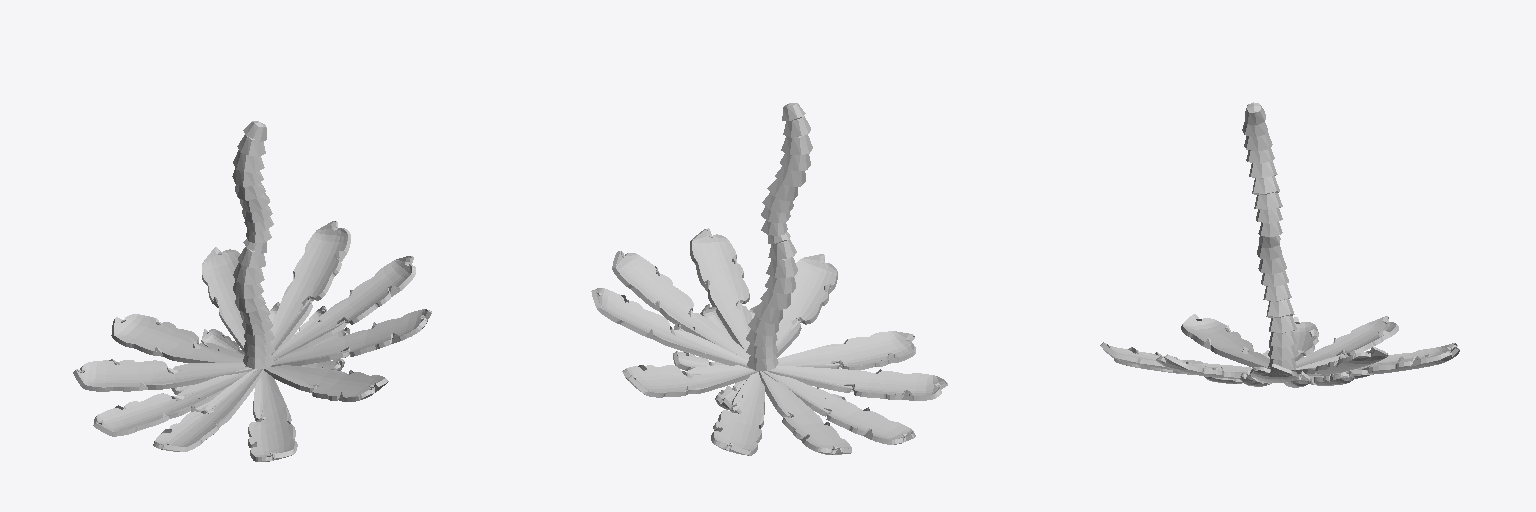
The model's file is PalmTrees.obj.
The picture shows the model from 3 angles: view 1: azimuth 30°, elevation 25°; view 2: azimuth 150°, elevation 25°; view 3: azimuth 270°, elevation 25°; orthographic projection.
Visible parts, largest first — view 1: Plane.004, Plane.001, Plane.005, Plane.002, Plane, Plane.006, Plane.008, Plane.009, Plane.007, Plane.003; view 2: Plane.006, Plane.005, Plane.009, Plane.004, Plane.008, Plane, Plane.003, Plane.007, Plane.002, Plane.001, Plane.015; view 3: Plane.009, Plane.001, Plane.003, Plane.004, Plane.007, Plane.006, Plane, Plane.005.
Boxes of the visible parts, <box> form: Plane.004: <box>271,221,350,356</box>; Plane.001: <box>73,359,253,391</box>; Plane.005: <box>272,256,415,360</box>; Plane.002: <box>111,314,245,366</box>; Plane: <box>93,368,259,436</box>; Plane.006: <box>271,309,431,366</box>; Plane.008: <box>248,371,297,461</box>; Plane.009: <box>153,369,263,451</box>; Plane.007: <box>264,364,388,401</box>; Plane.003: <box>202,247,245,353</box>; Plane.006: <box>690,228,751,357</box>; Plane.005: <box>612,251,749,360</box>; Plane.009: <box>768,366,947,400</box>; Plane.004: <box>591,288,750,368</box>; Plane.008: <box>777,331,915,369</box>; Plane: <box>762,370,915,444</box>; Plane.003: <box>622,365,758,397</box>; Plane.007: <box>776,254,837,357</box>; Plane.002: <box>711,372,764,455</box>; Plane.001: <box>759,371,851,454</box>; Plane.015: <box>673,351,728,370</box>; Plane.009: <box>1181,314,1269,367</box>; Plane.001: <box>1295,316,1398,369</box>; Plane.003: <box>1320,347,1459,375</box>; Plane.004: <box>1291,347,1387,375</box>; Plane.007: <box>1100,342,1252,370</box>; Plane.006: <box>1156,354,1251,378</box>; Plane: <box>1269,317,1318,361</box>; Plane.005: <box>1249,364,1298,382</box>.
Bounding box in the file's own units: 26.31 × 23.84 × 26.57.